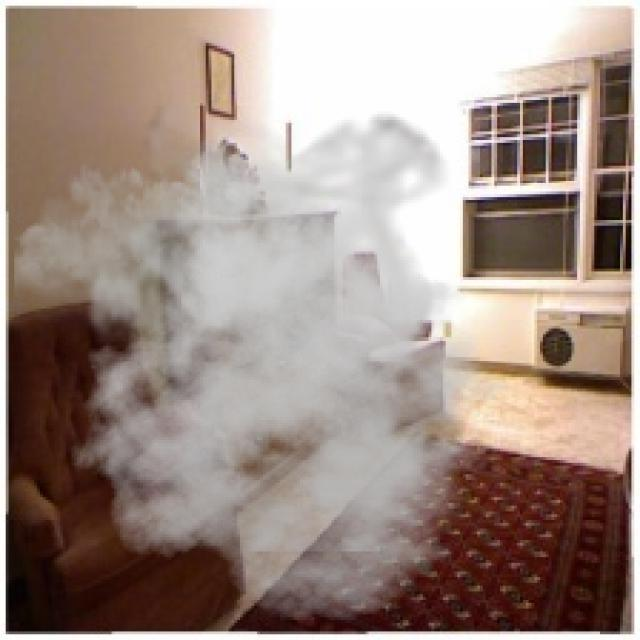Smoke: (14, 106, 534, 623)
